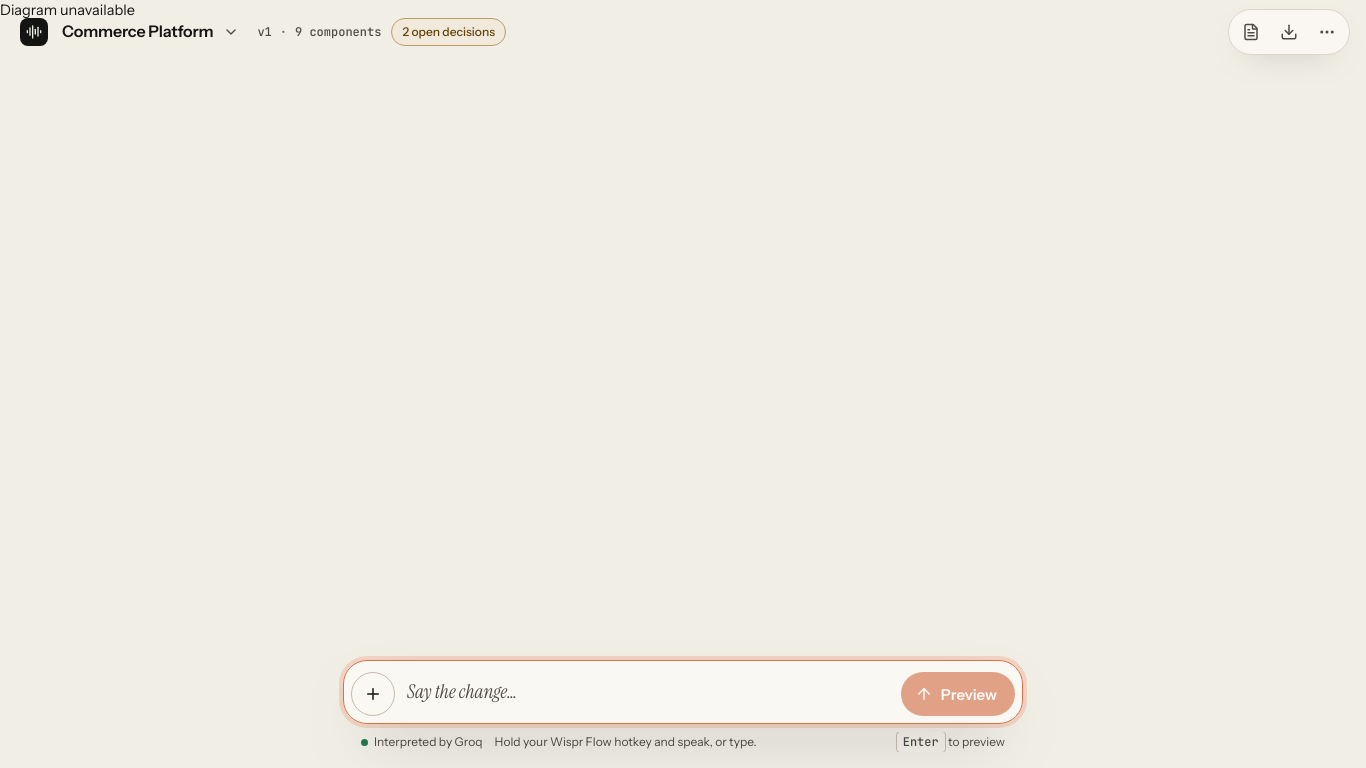
Scenario: Fallback badge › shows why the offline rules answered when the server refuses a model preview
Expected: the text "Interpreted by Groq" is shown, [361,733,482,751]
Click the button named "Switch project".
click(231, 32)  # box [215,16,247,48]
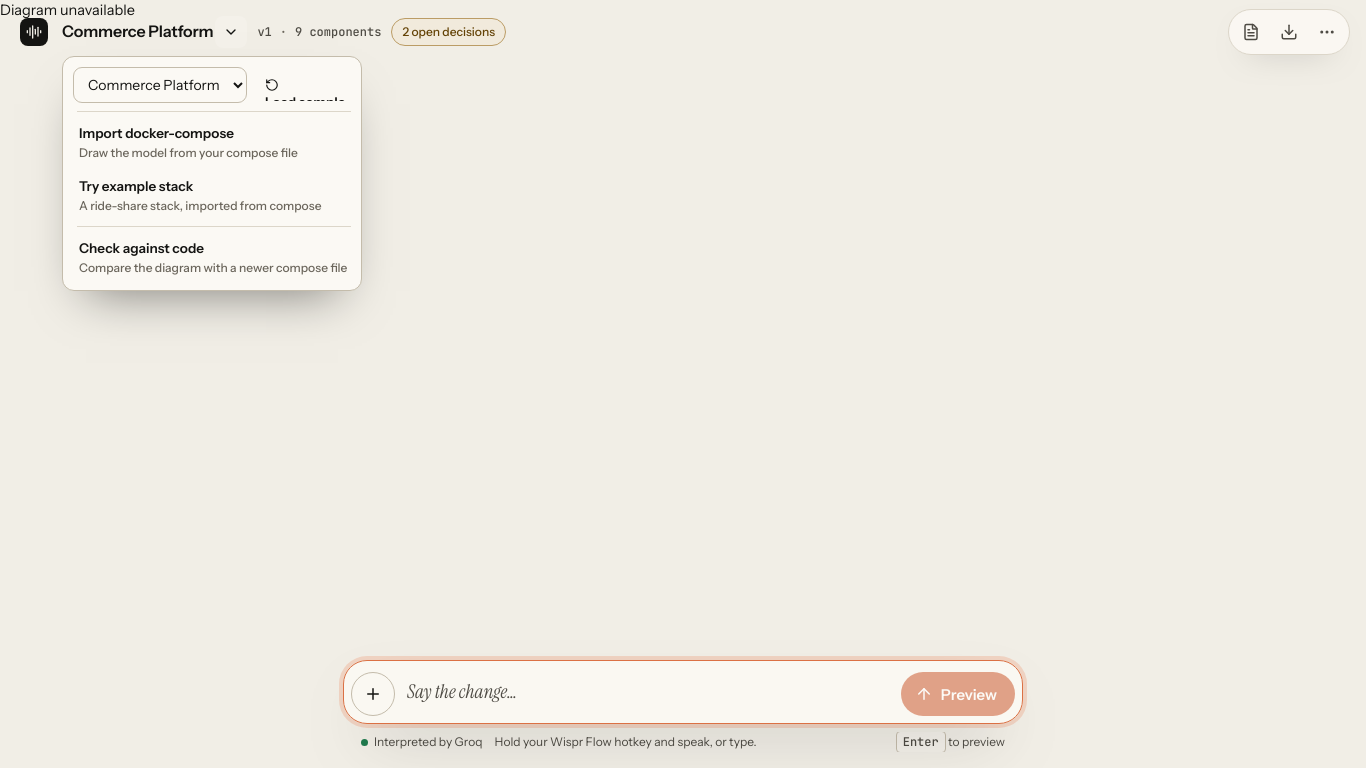
Click the button "Load sample".
click(305, 85)  # box [255,69,356,101]
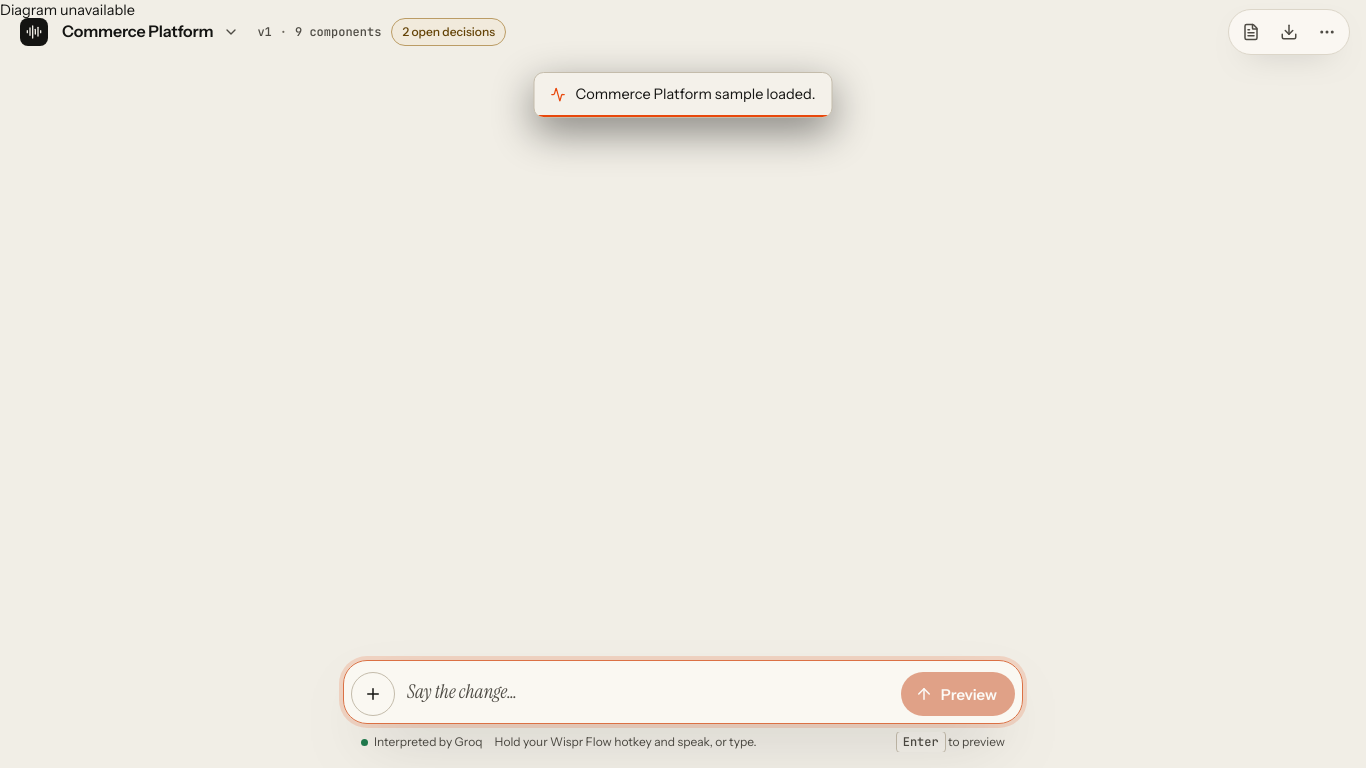
Type "add rate limiting to login" into the text box named "Your instruction".
click(648, 692); type("add rate limiting to login")  # box [401,668,895,716]
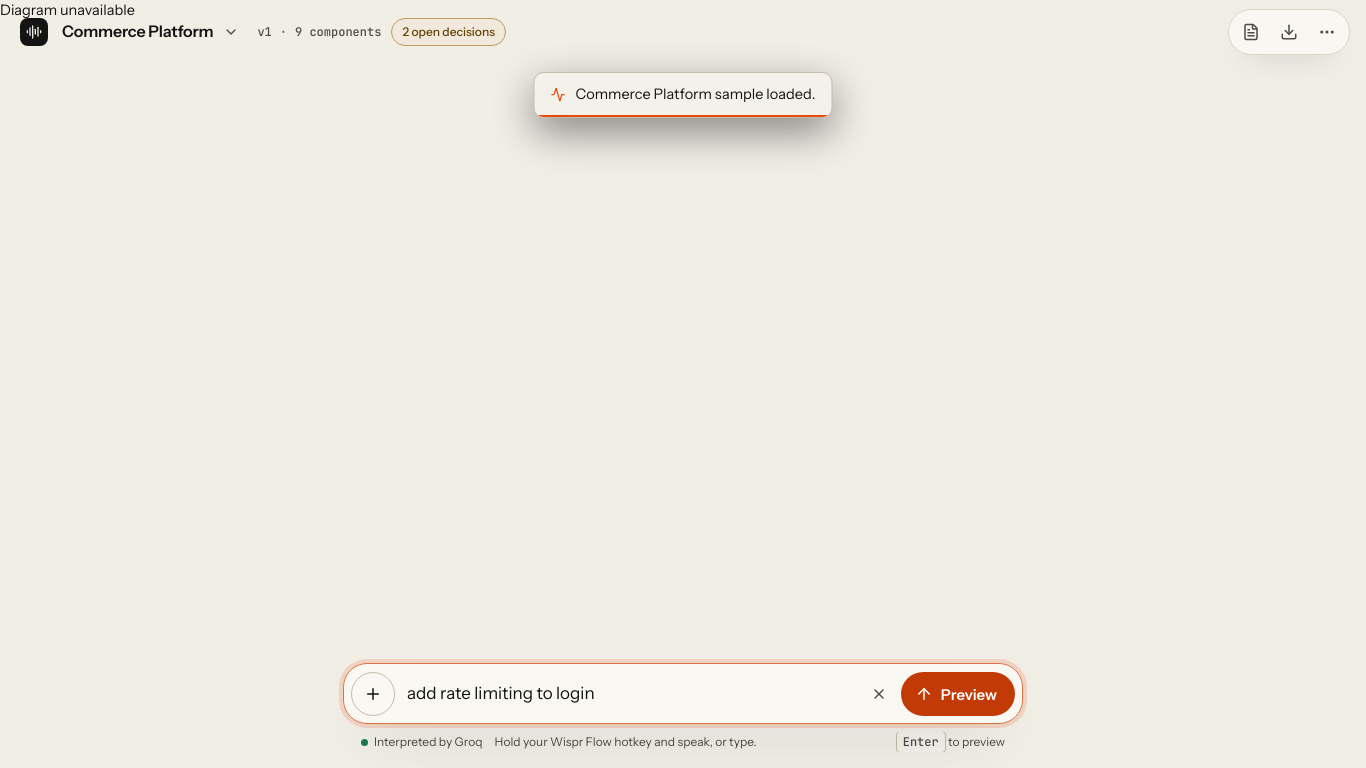
Click the button with aria-label "Preview my change".
click(958, 694)  # box [901,672,1015,716]
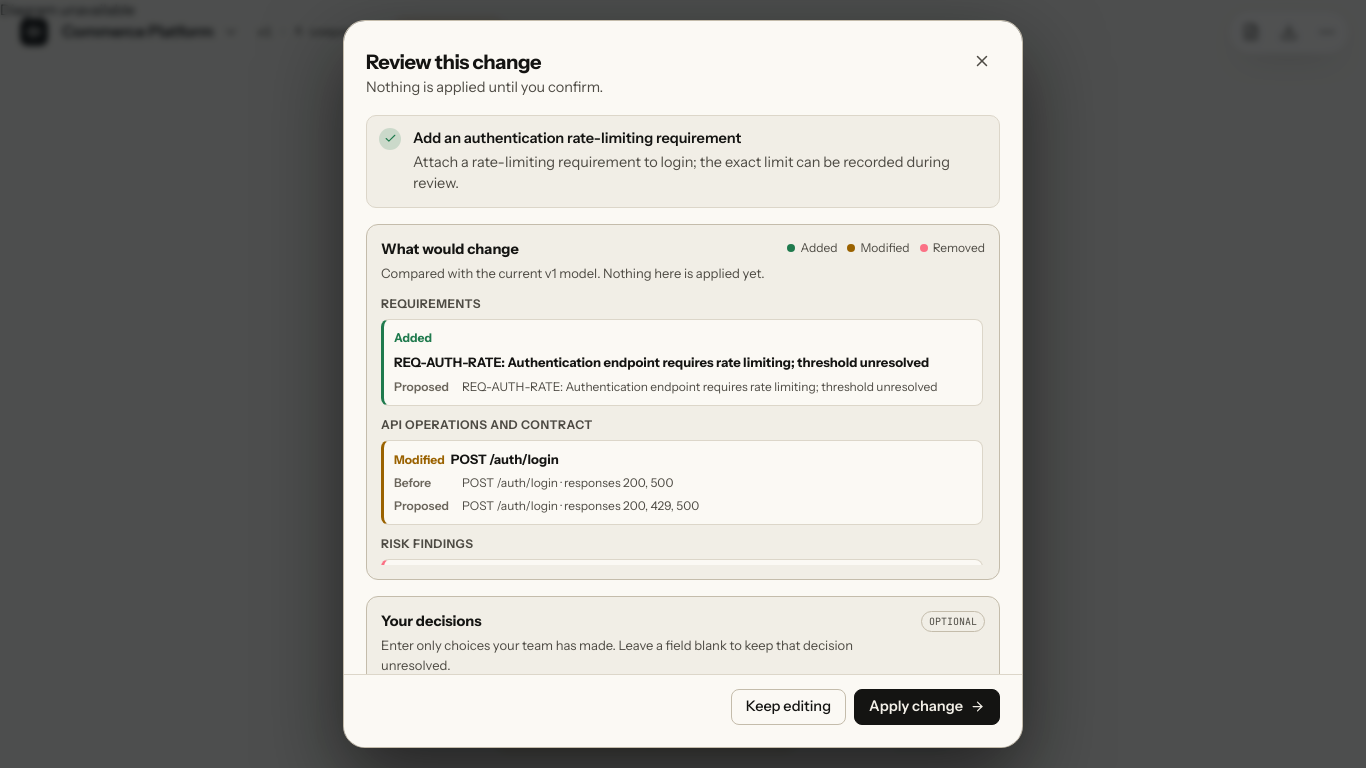
Result: the text "Add an authentication rate-limiting requirement" is shown at [413,129,741,147]
Result: the text "Offline rules for now: today's model limit is used up" is shown at [494,726,797,752]
